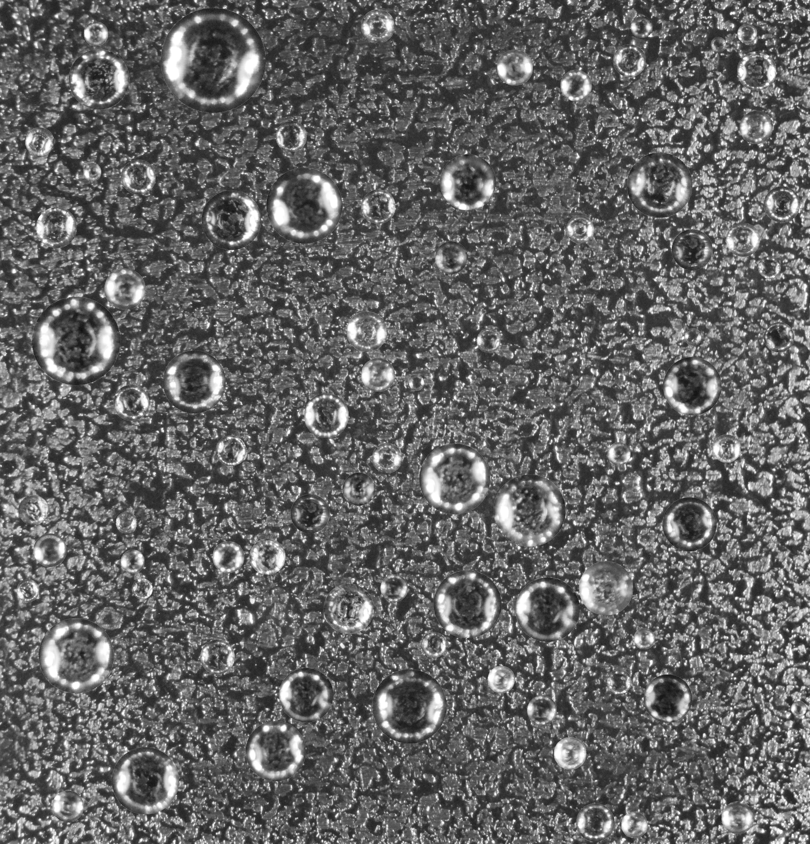Bubble: (160, 7, 265, 112), (31, 296, 120, 385), (266, 167, 342, 243), (38, 618, 113, 693), (372, 669, 446, 743), (493, 474, 565, 546), (419, 443, 490, 514), (433, 570, 501, 638), (111, 747, 178, 814), (627, 152, 692, 217), (515, 577, 579, 641), (162, 350, 225, 413), (68, 49, 129, 109), (245, 721, 305, 781), (201, 190, 261, 249), (663, 357, 721, 415), (440, 154, 495, 210), (579, 561, 633, 615), (279, 668, 333, 722), (662, 497, 716, 551), (323, 583, 373, 633), (643, 674, 692, 722), (304, 393, 348, 437), (104, 268, 145, 309), (671, 229, 712, 270), (346, 311, 387, 351), (36, 207, 76, 247), (290, 494, 329, 533), (737, 51, 776, 90), (576, 803, 614, 841), (249, 538, 285, 574), (764, 186, 800, 222), (113, 384, 149, 420), (497, 49, 532, 85), (121, 159, 155, 194), (200, 639, 234, 674), (726, 222, 760, 256), (361, 189, 395, 223), (361, 358, 394, 391), (33, 533, 66, 566), (721, 801, 754, 834), (739, 110, 772, 143), (342, 472, 375, 505), (361, 9, 394, 42), (554, 737, 586, 769), (613, 44, 645, 76), (435, 241, 467, 273), (52, 790, 83, 822), (560, 69, 591, 101), (212, 541, 244, 572), (215, 435, 246, 465), (275, 121, 306, 151), (372, 443, 402, 473), (764, 322, 794, 352), (18, 495, 48, 525), (527, 695, 556, 725), (712, 434, 740, 462), (25, 127, 53, 155), (566, 215, 594, 243), (380, 574, 407, 601), (487, 666, 514, 693), (621, 811, 647, 838), (421, 632, 446, 657), (607, 669, 631, 694), (83, 21, 108, 45), (476, 328, 500, 352), (120, 549, 144, 573), (16, 579, 39, 602), (607, 442, 630, 465), (758, 255, 780, 278), (630, 16, 652, 37), (115, 512, 137, 533), (633, 628, 654, 649), (132, 578, 152, 599), (737, 23, 757, 43), (83, 163, 101, 181), (684, 328, 701, 345), (407, 374, 423, 390), (711, 37, 726, 52), (791, 701, 806, 716)
